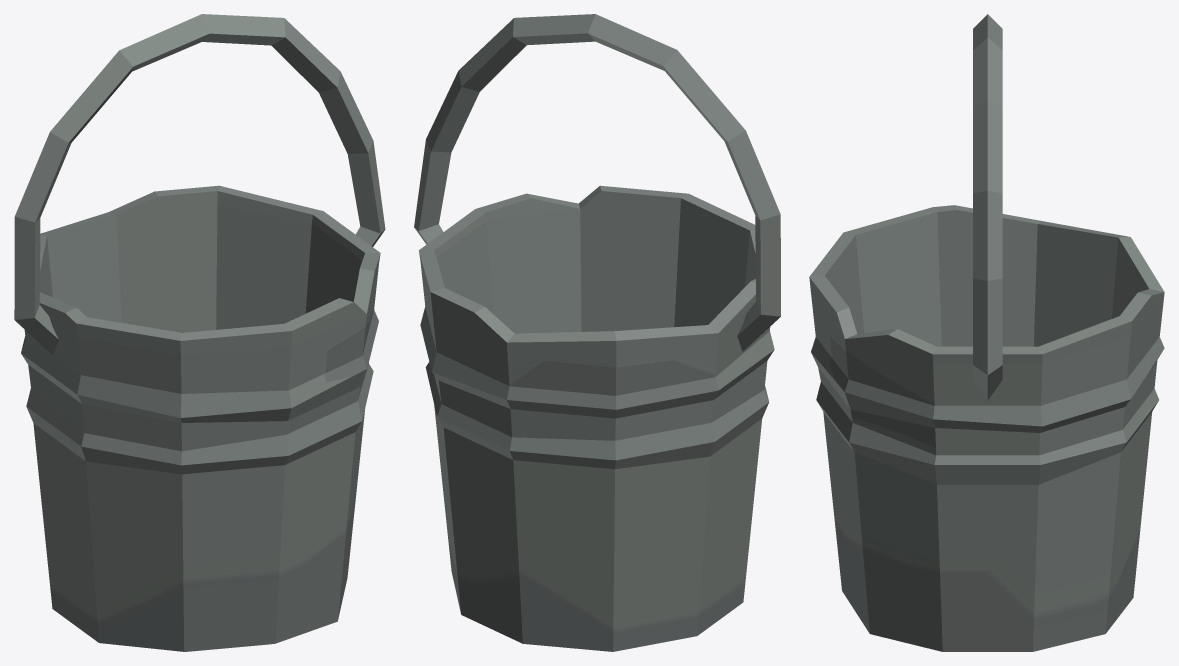
The model's file is SM_Bucket.gltf.
The picture shows the model from 3 angles, left to right: view 1: azimuth 30°, elevation 25°; view 2: azimuth 150°, elevation 25°; view 3: azimuth 270°, elevation 25°; orthographic projection. The views are drawn at different scales.
Visible parts, largest first — view 1: SM_Bucket, SM_Bucket_Handle; view 2: SM_Bucket, SM_Bucket_Handle; view 3: SM_Bucket, SM_Bucket_Handle.
Part boxes in pixels (x1,y1,x2,y2): SM_Bucket: (21,185,380,651); SM_Bucket_Handle: (14,14,385,355); SM_Bucket: (419,185,774,651); SM_Bucket_Handle: (414,14,780,351); SM_Bucket: (809,205,1164,651); SM_Bucket_Handle: (973,14,1002,400).
Size of the model in its own units: 0.5125 by 0.7671 by 0.44.
Materials: 1 (1 with a texture image).
